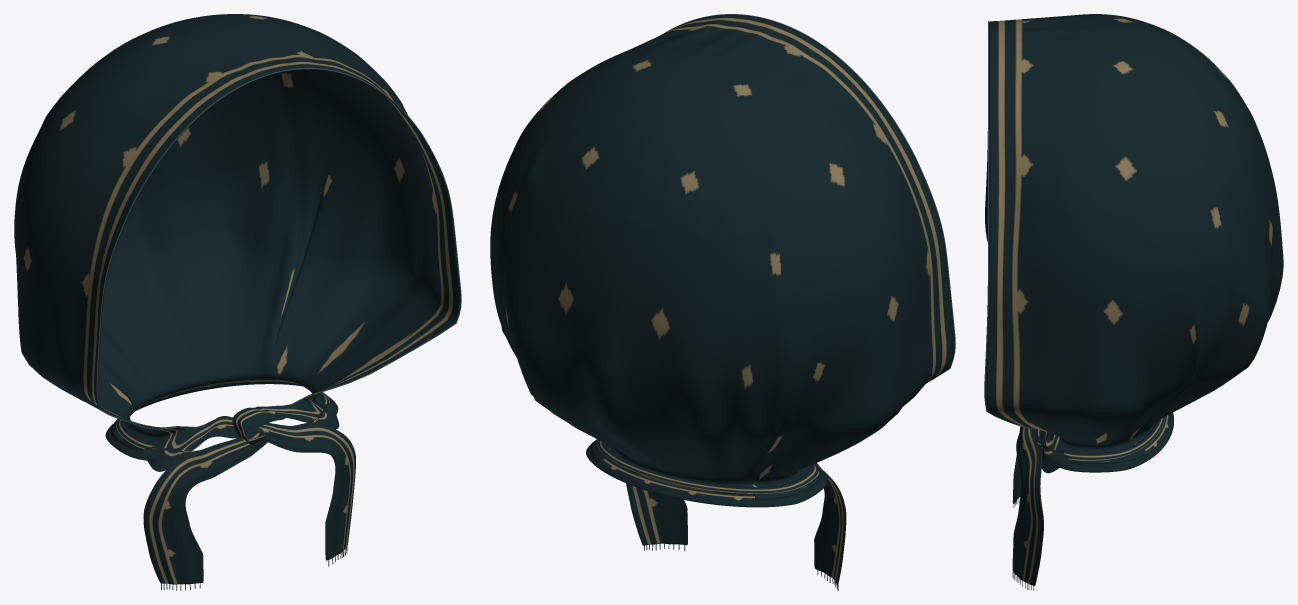
The model's file is Masculine-jersey-pashmina243-headgear.glb.
The picture shows the model from 3 angles, left to right: view 1: azimuth 30°, elevation 25°; view 2: azimuth 150°, elevation 25°; view 3: azimuth 270°, elevation 25°; orthographic projection. The views are drawn at different scales.
Parts seen in each view (by area): view 1: 226 headgear / Headwear / continuous woven pashmina239, 226 headgear / Headwear / face edge239; view 2: 226 headgear / Headwear / continuous woven pashmina239, 226 headgear / Headwear / face edge239; view 3: 226 headgear / Headwear / continuous woven pashmina239, 226 headgear / Headwear / face edge239.
Part boxes in pixels (x1,y1,x2,y2): 226 headgear / Headwear / continuous woven pashmina239: [14, 14, 460, 584]; 226 headgear / Headwear / face edge239: [96, 68, 461, 429]; 226 headgear / Headwear / continuous woven pashmina239: [490, 14, 954, 584]; 226 headgear / Headwear / face edge239: [663, 14, 955, 382]; 226 headgear / Headwear / continuous woven pashmina239: [985, 14, 1283, 586]; 226 headgear / Headwear / face edge239: [984, 21, 1035, 429].
Bounding box in the file's own units: 1.03 × 1.35 × 0.7127.
3 materials, 1 textured.
